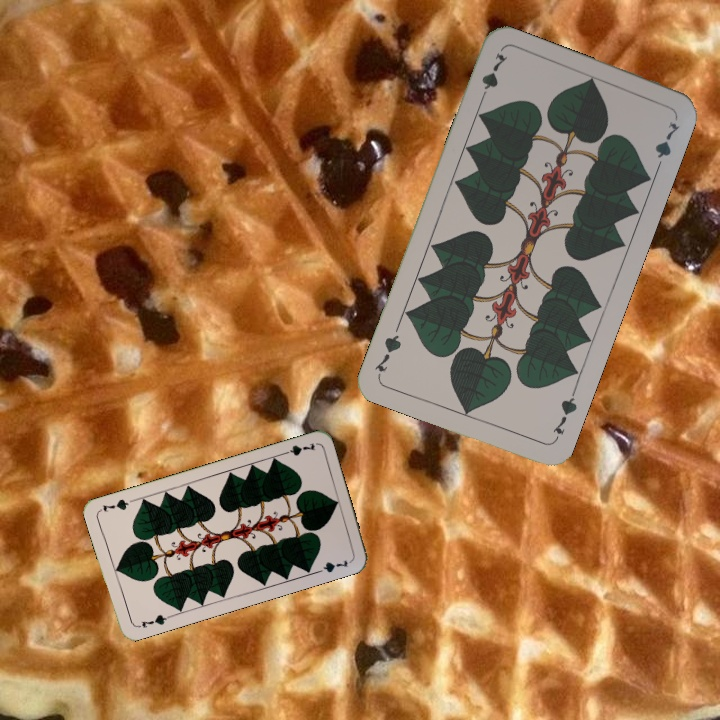G7: (475, 48, 510, 106), (548, 386, 580, 443), (277, 439, 318, 459), (137, 610, 173, 630)
